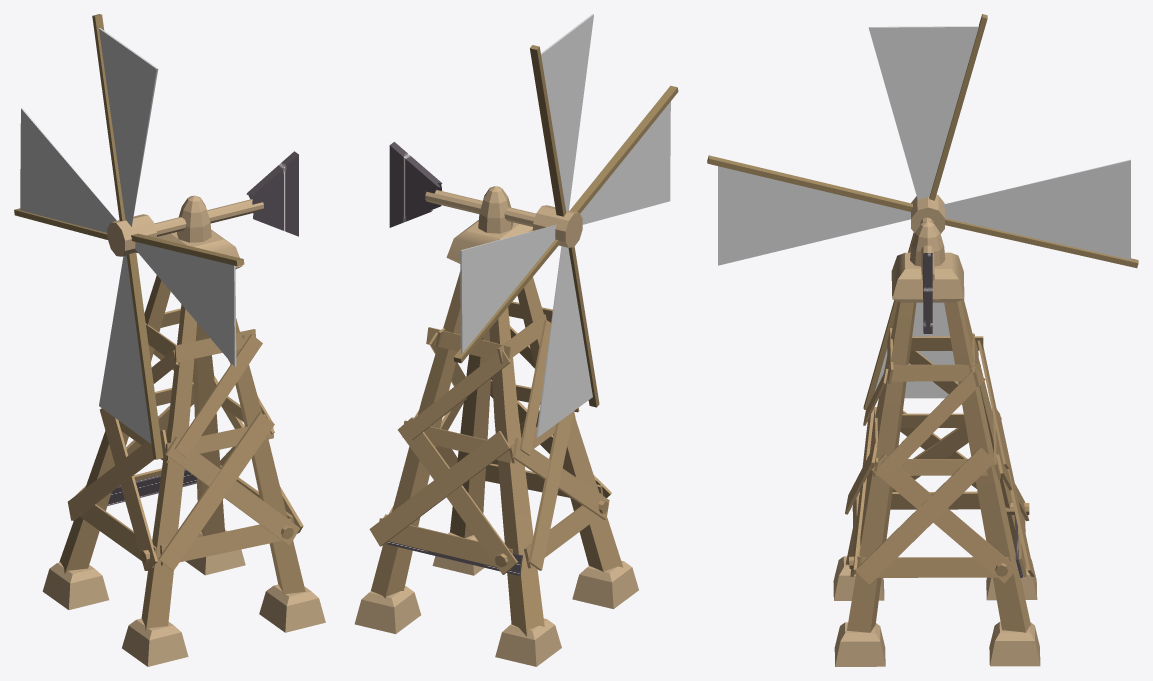
File: coixaygio.fbx
3 renders of one model, left to right at view 1: azimuth 30°, elevation 25°; view 2: azimuth 150°, elevation 25°; view 3: azimuth 270°, elevation 25°, orthographic. The views are drawn at different scales.
Visible parts, largest first — view 1: polySurface101, polySurface142; view 2: polySurface101, polySurface142; view 3: polySurface101, polySurface142.
Boxes of the visible parts, left/top/right/bottom form: polySurface101: left=42, top=151, right=325, bottom=666; polySurface142: left=14, top=14, right=244, bottom=459; polySurface101: left=354, top=142, right=638, bottom=666; polySurface142: left=453, top=14, right=678, bottom=437; polySurface101: left=833, top=217, right=1040, bottom=666; polySurface142: left=707, top=14, right=1138, bottom=409.
Bounding box in the file's own units: 2.64 × 7.49 × 5.06.
